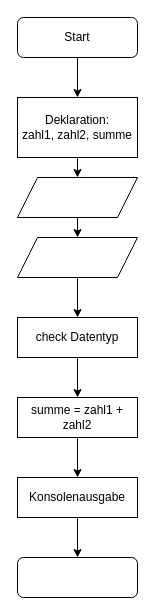
Image size: 155x615. Some labels were removed from this diagram. Here are the shapes that lost their labels. From the top down, the centre of each, then its label:
At point 77,197: "prompt: zahl 1".
At point 77,257: "prompt: zahl 2".
At point 77,577: "Stop".
